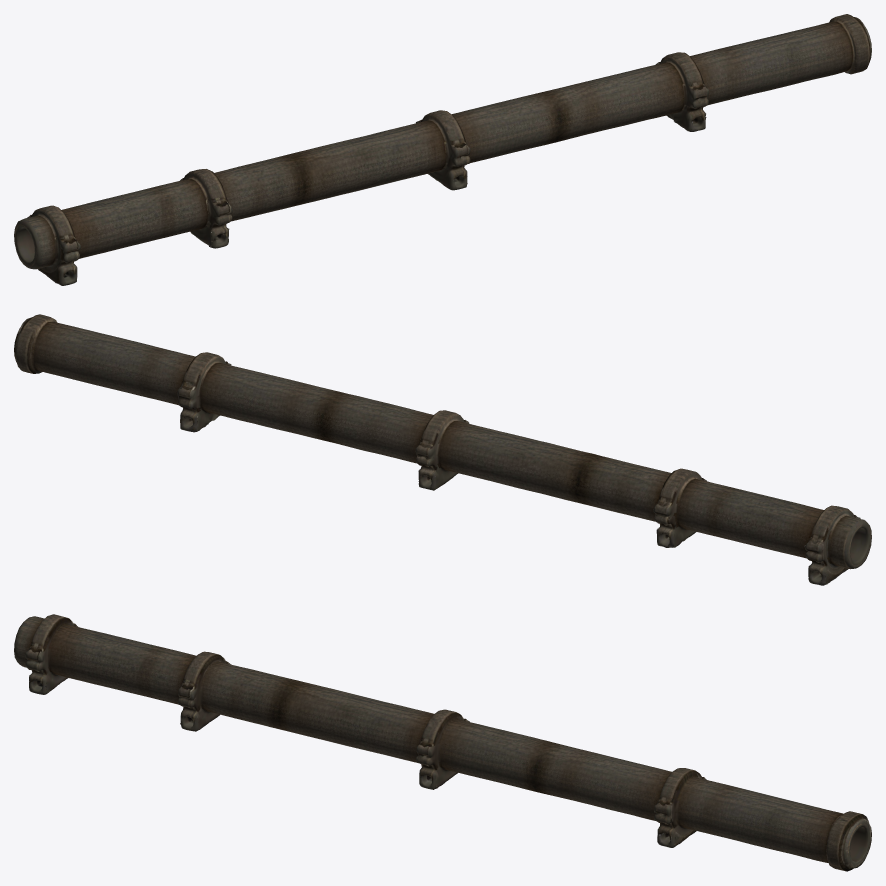
Rendered from metal+pipe+3d+model.glb.
3 views of the same model, one above another, from view 1: azimuth 30°, elevation 25°; view 2: azimuth 150°, elevation 25°; view 3: azimuth 330°, elevation 25° (orthographic).
Parts seen in each view (by area): view 1: tripo_node_1520588f-cd61-4b52-9202-1d007e4b05e7; view 2: tripo_node_1520588f-cd61-4b52-9202-1d007e4b05e7; view 3: tripo_node_1520588f-cd61-4b52-9202-1d007e4b05e7.
Boxes of the visible parts, x1=… form: tripo_node_1520588f-cd61-4b52-9202-1d007e4b05e7: x1=14, y1=14, x2=871, y2=285; tripo_node_1520588f-cd61-4b52-9202-1d007e4b05e7: x1=14, y1=314, x2=871, y2=585; tripo_node_1520588f-cd61-4b52-9202-1d007e4b05e7: x1=14, y1=614, x2=871, y2=871.
Size of the model in its own units: 0.9868 by 0.0728 by 0.0832.
Materials: 1 (1 with a texture image).
